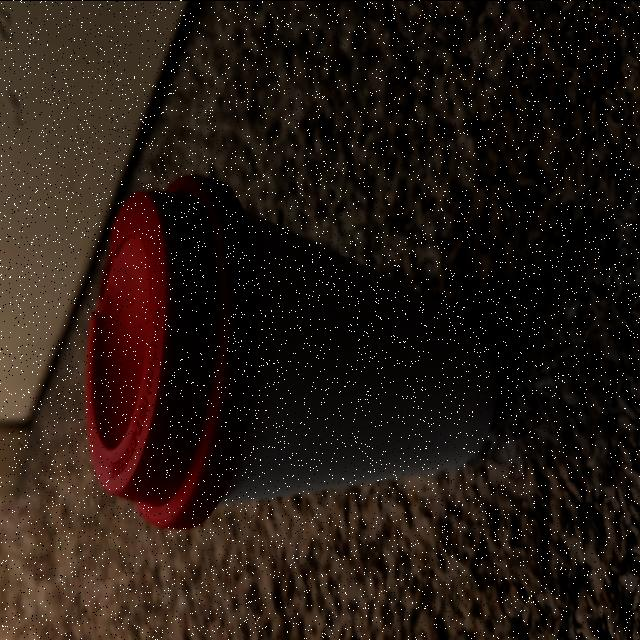mug: (92, 186, 496, 522)
